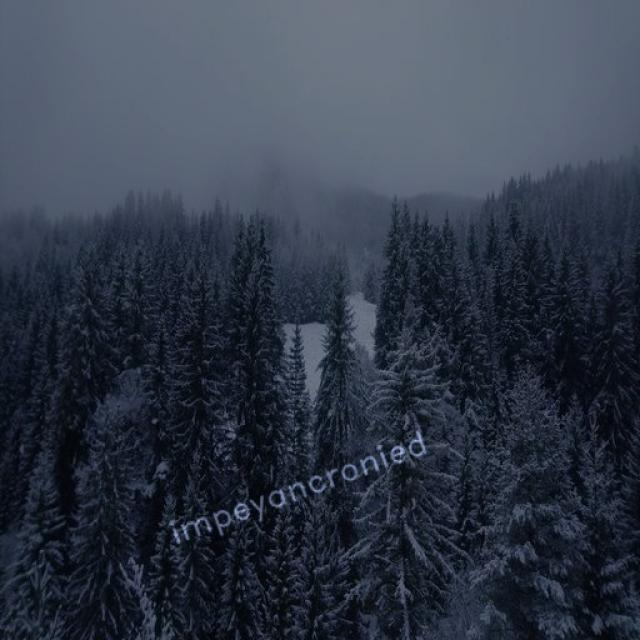watermark: (165, 425, 430, 550)
